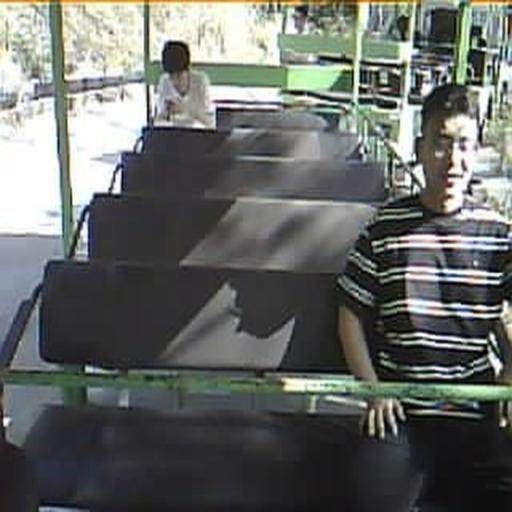persona: (333, 81, 511, 509), (152, 40, 216, 129)
